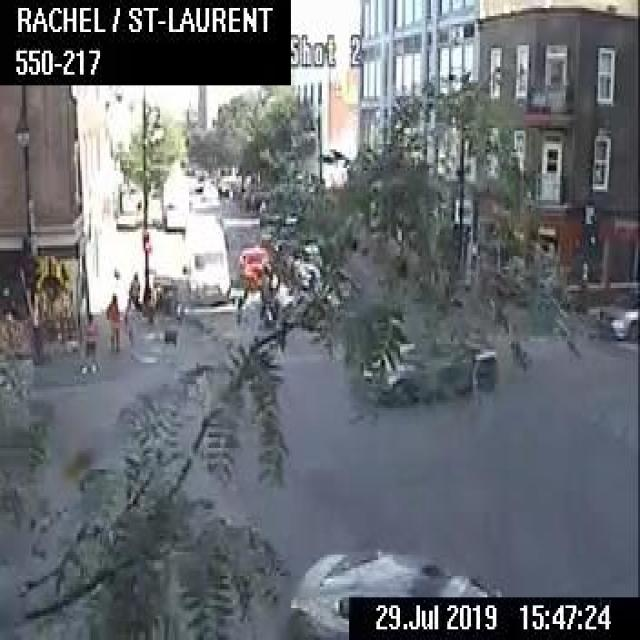pedestrian: (80, 304, 100, 376), (104, 292, 120, 352), (124, 300, 140, 353), (129, 272, 139, 314)
vehicle: (284, 544, 502, 637), (358, 331, 496, 405), (183, 209, 231, 302), (596, 290, 638, 338), (161, 171, 189, 229), (236, 243, 268, 283)
